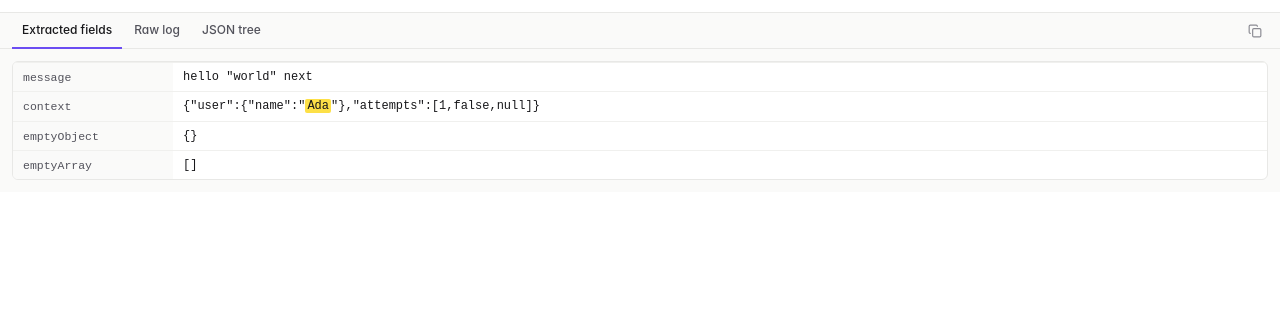
Scenario: expanded log JSON tree › retains the fields, raw JSON, and search highlighting views
Check: the table is shown, box [13,62,1267,179]
Check: the text "Ada" is shown, box [305,99,331,113]
What coordinates should you click on to do the following:
click the button "JSON tree"
I would click on:
 (231, 31)
Its box is [192,13,271,49].
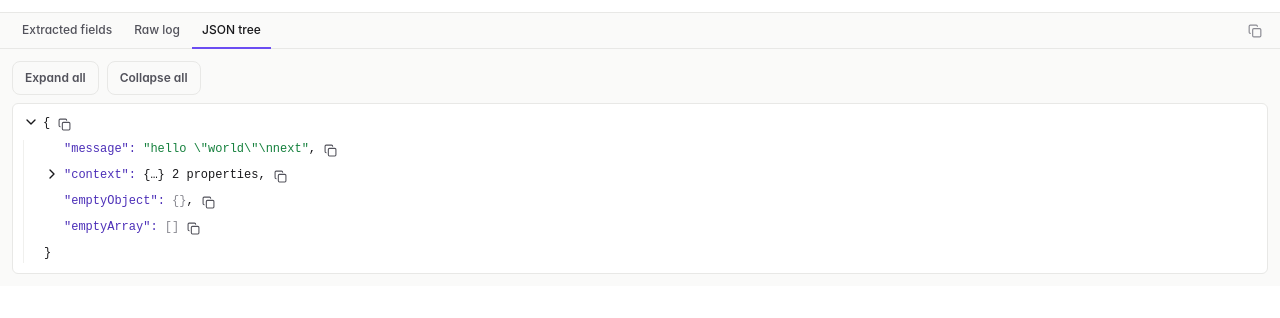
What coordinates should you click on to do the following:
click the button "Raw log"
I would click on:
 (157, 31)
Its box is [124,13,190,49].
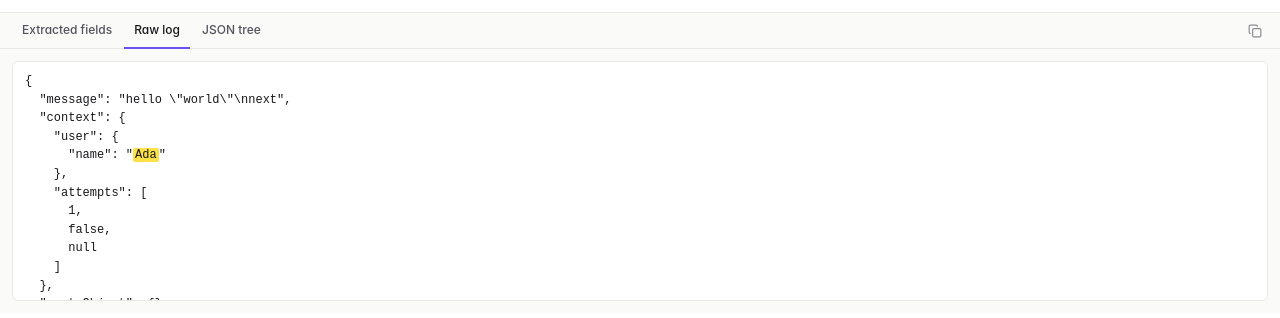
Check: the text "\"context\":" is shown, box [25,74,292,162]
Check: the text "Ada" is shown, box [133,148,159,162]
What coordinates should you click on to do the following:
click the button "Extracted fields"
I would click on:
 (67, 31)
Its box is [12,13,122,49].
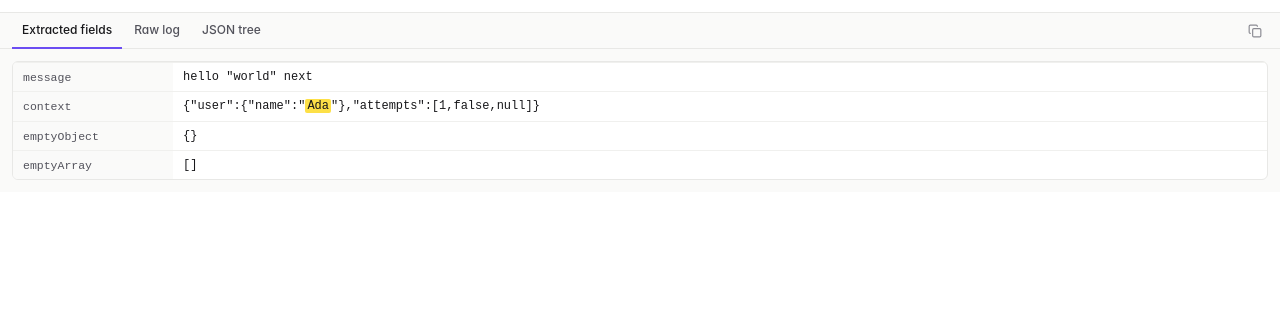
Check: the table is shown, box [13,62,1267,179]
